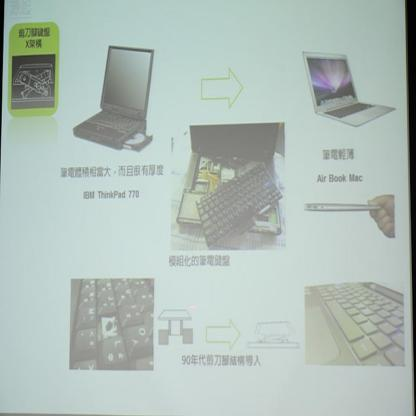board: (176, 122, 283, 249), (72, 36, 154, 144), (302, 52, 396, 130)
